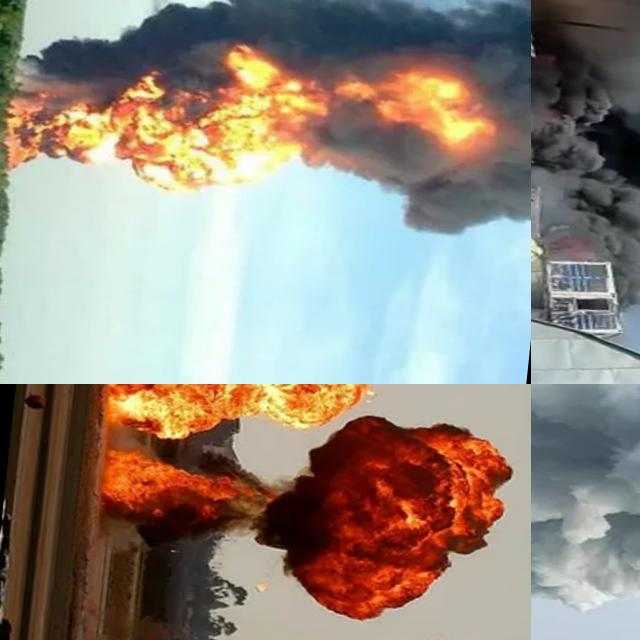smoke: (1, 0, 531, 310), (88, 387, 514, 635), (531, 0, 640, 315), (531, 384, 640, 640)
